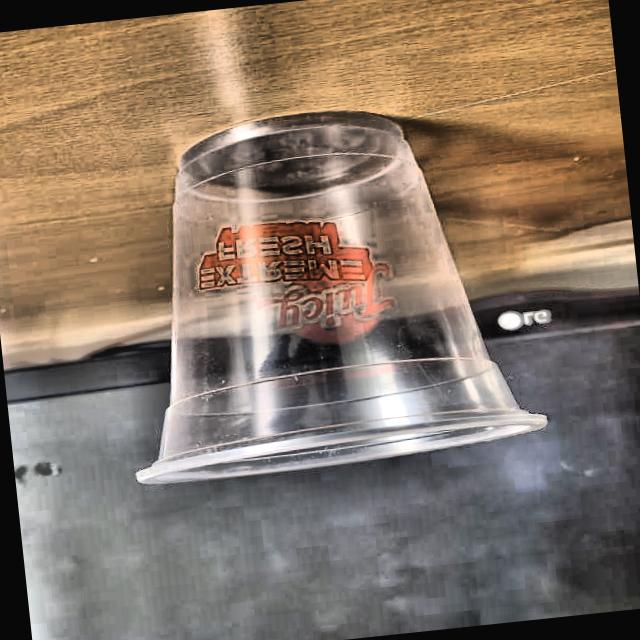plastic cup: (99, 92, 551, 491)
